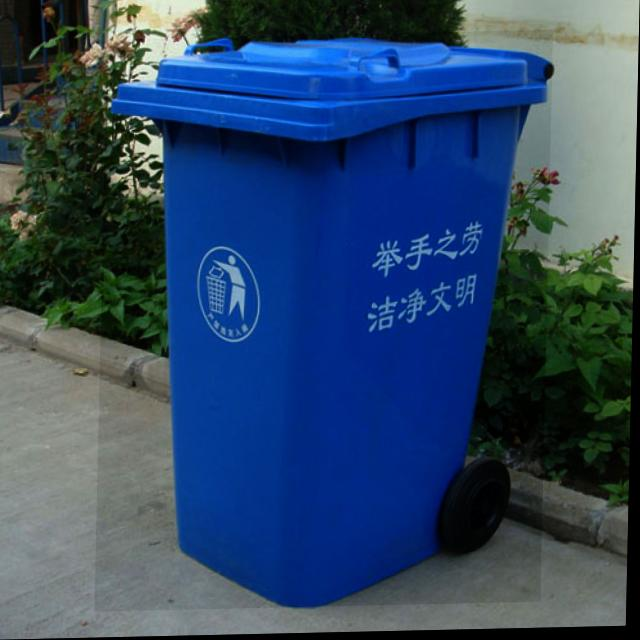garbage_bin: (97, 33, 553, 613)
